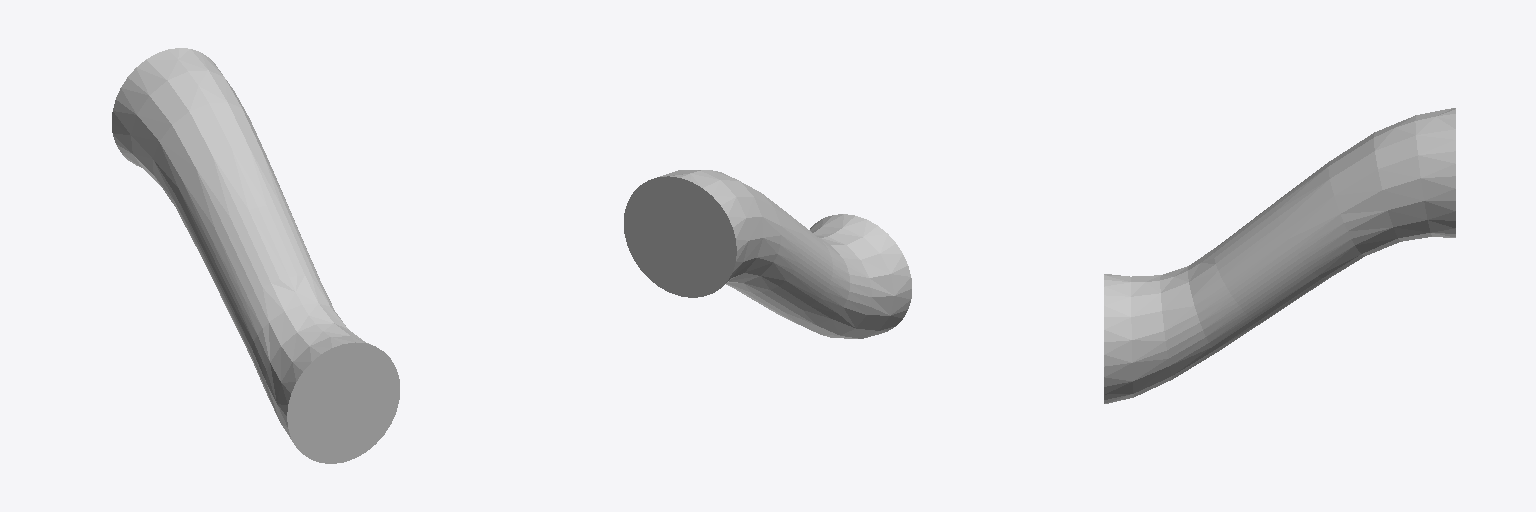
The picture shows the model from 3 angles: view 1: azimuth 30°, elevation 25°; view 2: azimuth 150°, elevation 25°; view 3: azimuth 270°, elevation 25°; orthographic projection.
Parts seen in each view (by area): view 1: LINK2_A0509; view 2: LINK2_A0509; view 3: LINK2_A0509.
Boxes of the visible parts, box(x1,y1,x2,y2) form: LINK2_A0509: box(112, 48, 399, 463); LINK2_A0509: box(624, 170, 911, 338); LINK2_A0509: box(1104, 108, 1455, 403).
Size of the model in its own units: 0.0872 by 0.2091 by 0.2337.